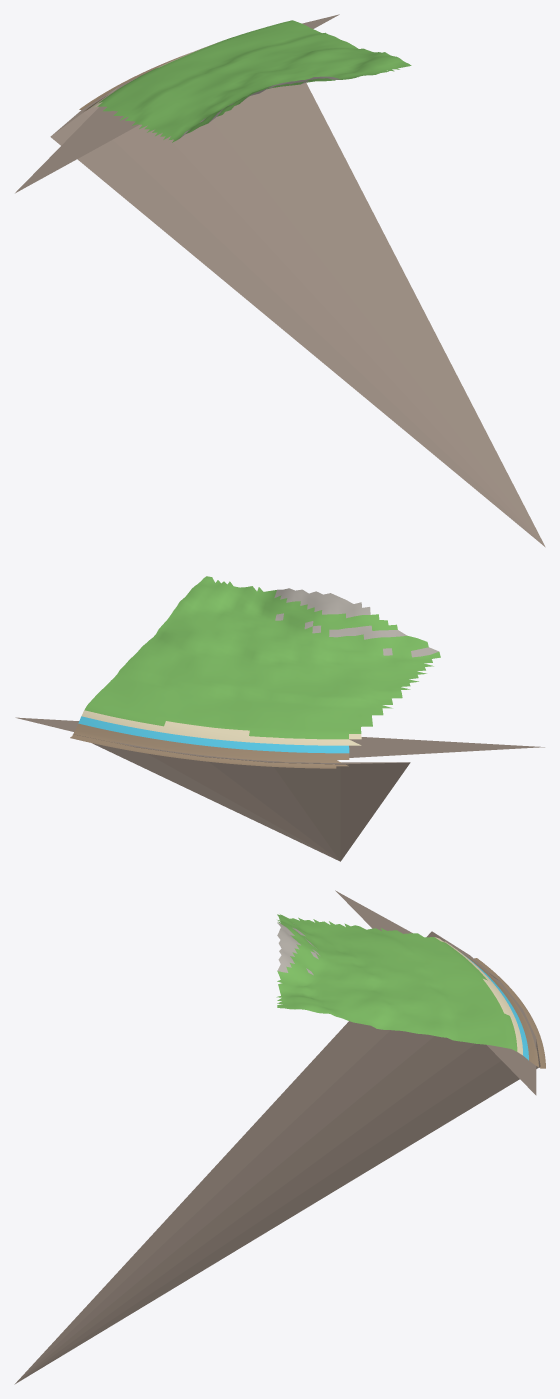
File: flagship_terrain_01.glb
3 renders of one model, top to bottom at view 1: azimuth 30°, elevation 25°; view 2: azimuth 150°, elevation 25°; view 3: azimuth 270°, elevation 25°, orthographic.
Visible parts, largest first — view 1: Terrain_01; view 2: Terrain_01; view 3: Terrain_01.
Boxes of the visible parts, x1=… form: Terrain_01: x1=15, y1=14, x2=545, y2=547; Terrain_01: x1=15, y1=576, x2=544, y2=861; Terrain_01: x1=14, y1=890, x2=545, y2=1384.
Size of the model in its own units: 111 by 98.01 by 121.
